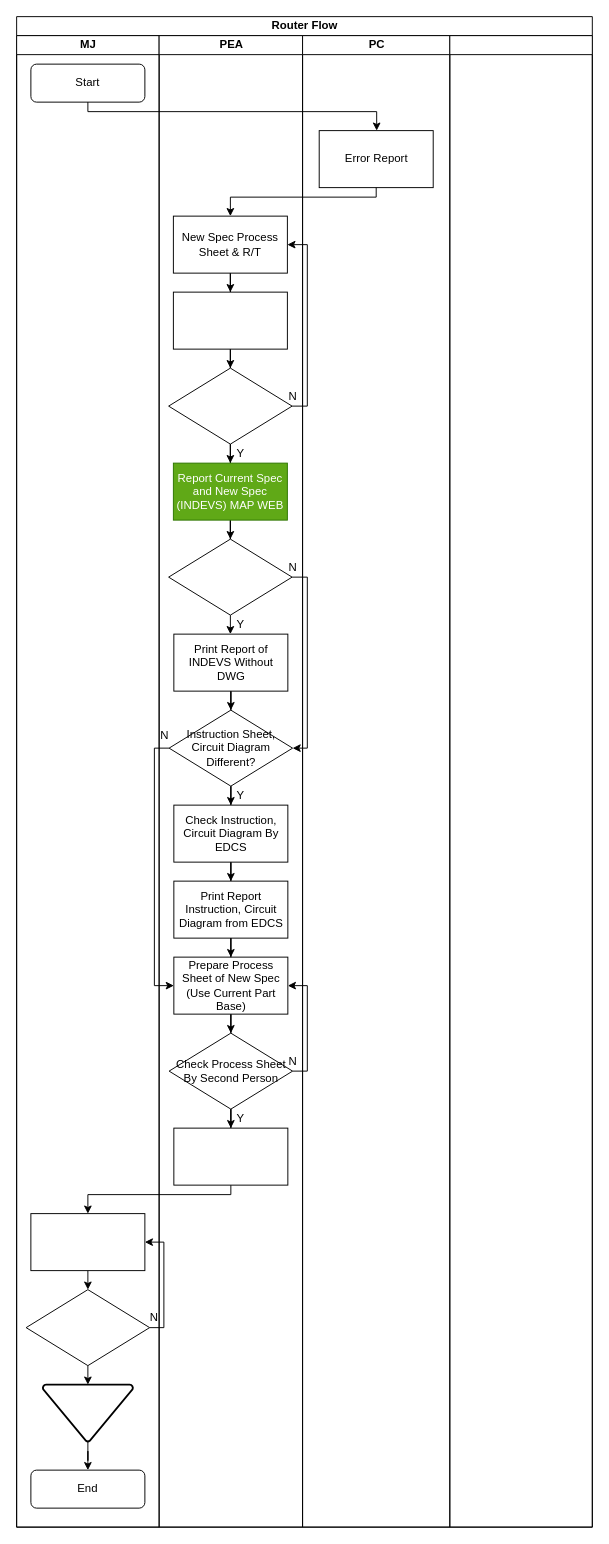
Some shapes in this 609 by 1544 pixel diagram are drawn without their labels. The centre of each missing label's shape, as x and y in pixels:
"Add New Spec (Daily)" belongs at point 229,320.
"Check New Spec ?" belongs at point 230,405.
"Check New Spec Without DWG" belongs at point 230,576.
"Input R/T" belongs at point 87,1327.
"Other" belongs at point 520,781.
"Prepare Application of NEW SPEC R/T" belongs at point 230,1156.
"Storage of New Spec R/T" belongs at point 87,1412.
"Use Process Sheet to Base of R/T" belongs at point 87,1242.
